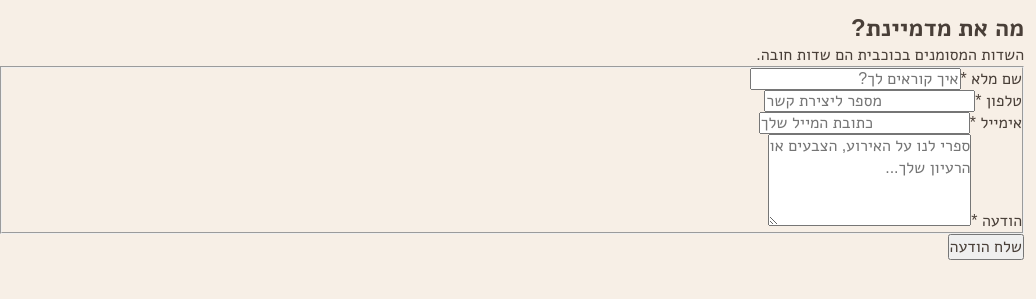
waits for server acknowledgement and prevents duplicate submission
In the field labelled "שם מלא *": (855, 79) [750,68,961,90], type "לקוחה לבדיקה"
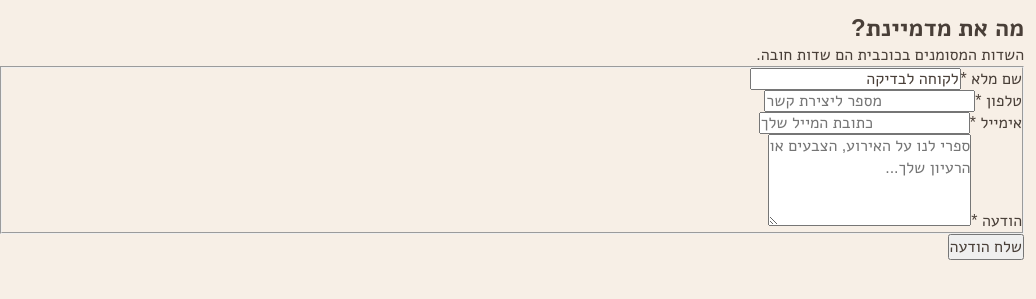
In the field labelled "טלפון *": (870, 101) [764,90,975,112], type "0501234567"
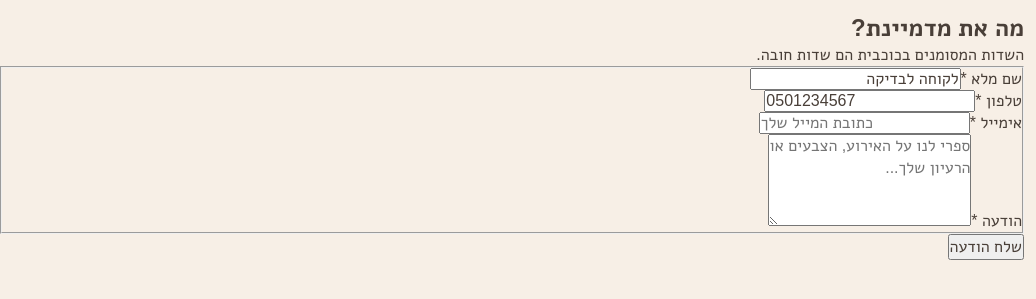
In the field labelled "אימייל *": (864, 123) [759,112,970,134], type "test@example.test"
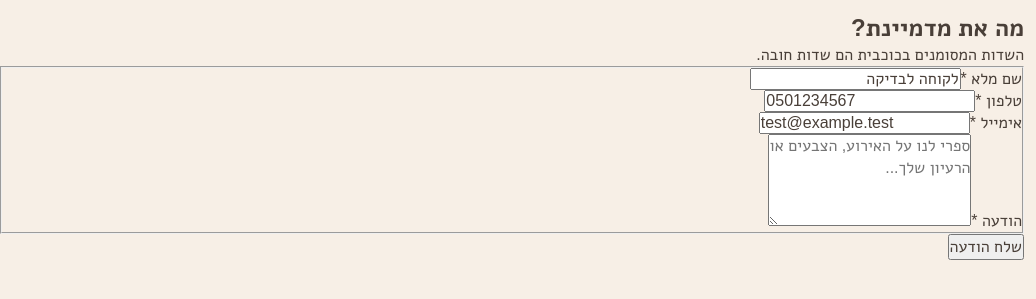
In the text box labelled "הודעה *": (870, 180) [768,134,971,226], type "שאלה כללית"
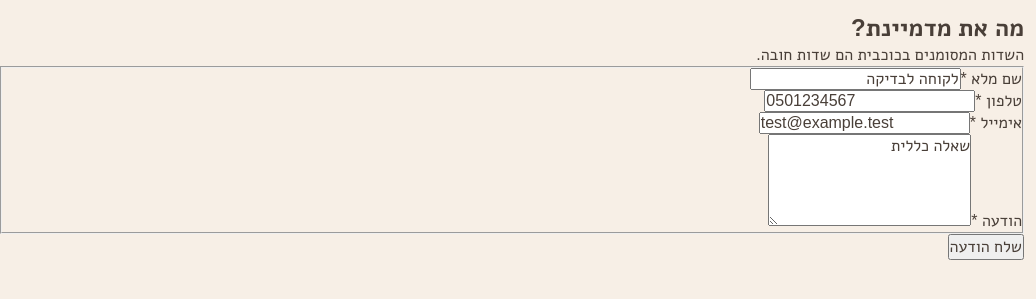
Submit the form
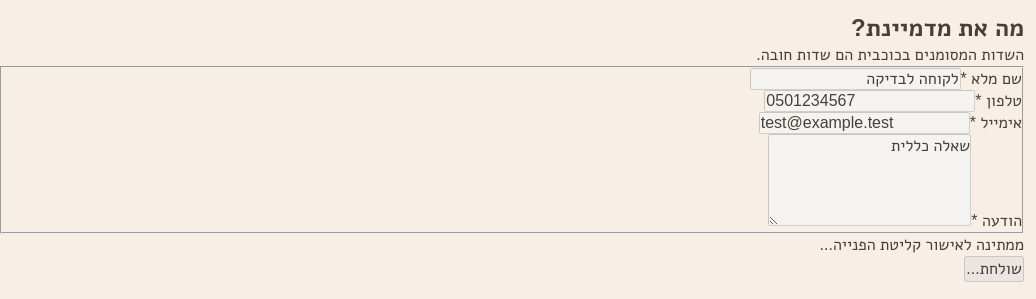
Submit the form
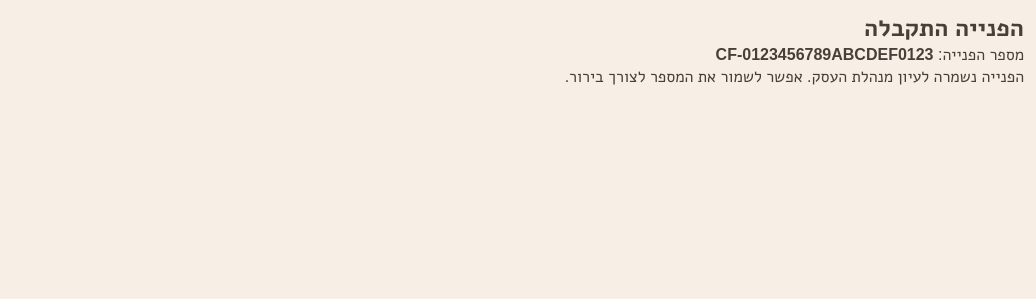
Check: the heading "הפנייה התקבלה" is shown, box [864,14,1024,41]
